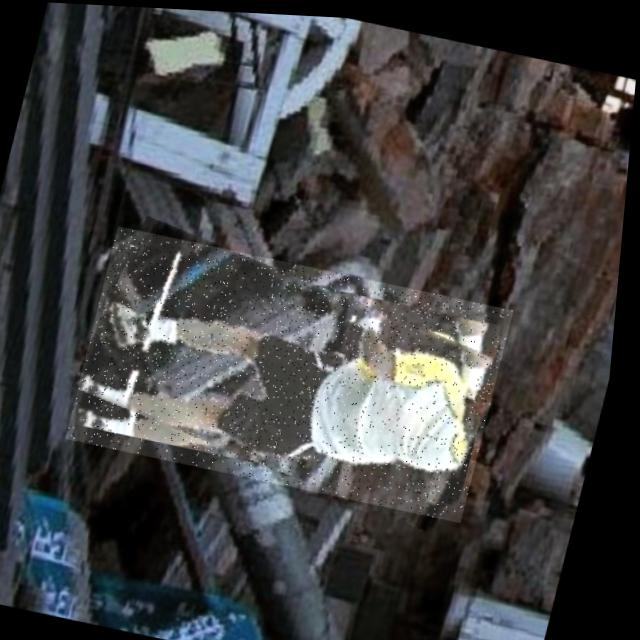Person in Rubble: (68, 223, 522, 519)
